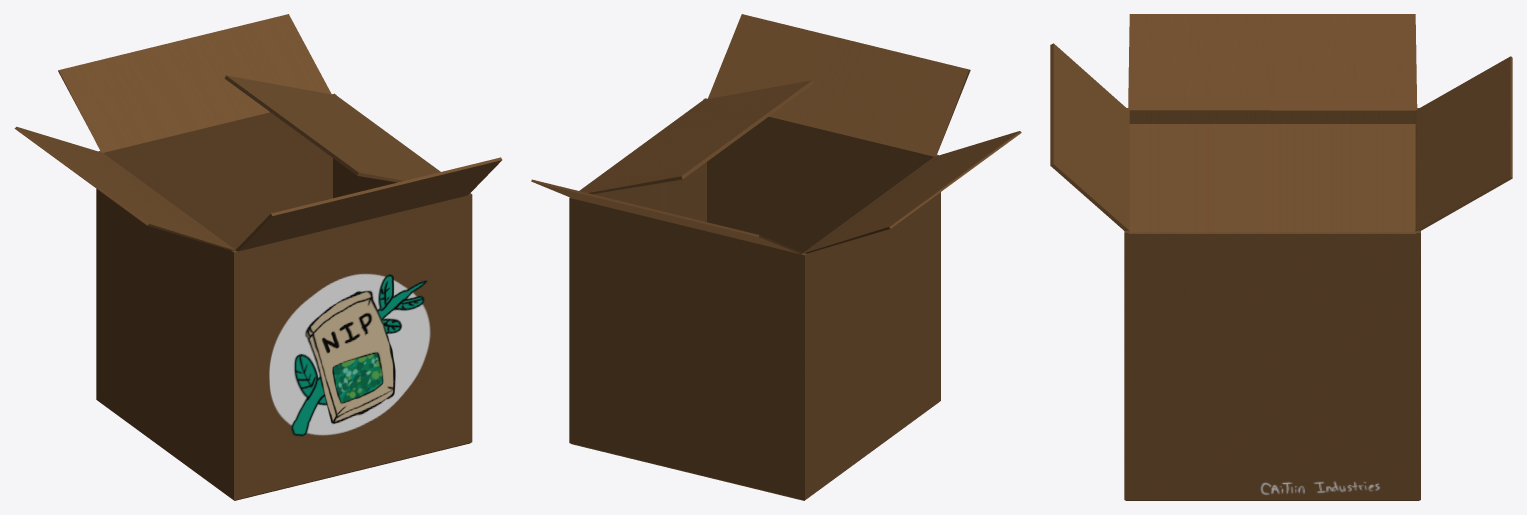
File: boxybox.fbx
The picture shows the model from 3 angles, left to right: view 1: azimuth 30°, elevation 25°; view 2: azimuth 150°, elevation 25°; view 3: azimuth 270°, elevation 25°; orthographic projection. The views are drawn at different scales.
Parts seen in each view (by area): view 1: pCube1; view 2: pCube1; view 3: pCube1.
Boxes of the visible parts, <box> form: pCube1: <box>14,14,502,500</box>; pCube1: <box>531,14,1021,500</box>; pCube1: <box>1050,14,1512,500</box>.
Size of the model in its own units: 1.35 by 1.25 by 1.56.
